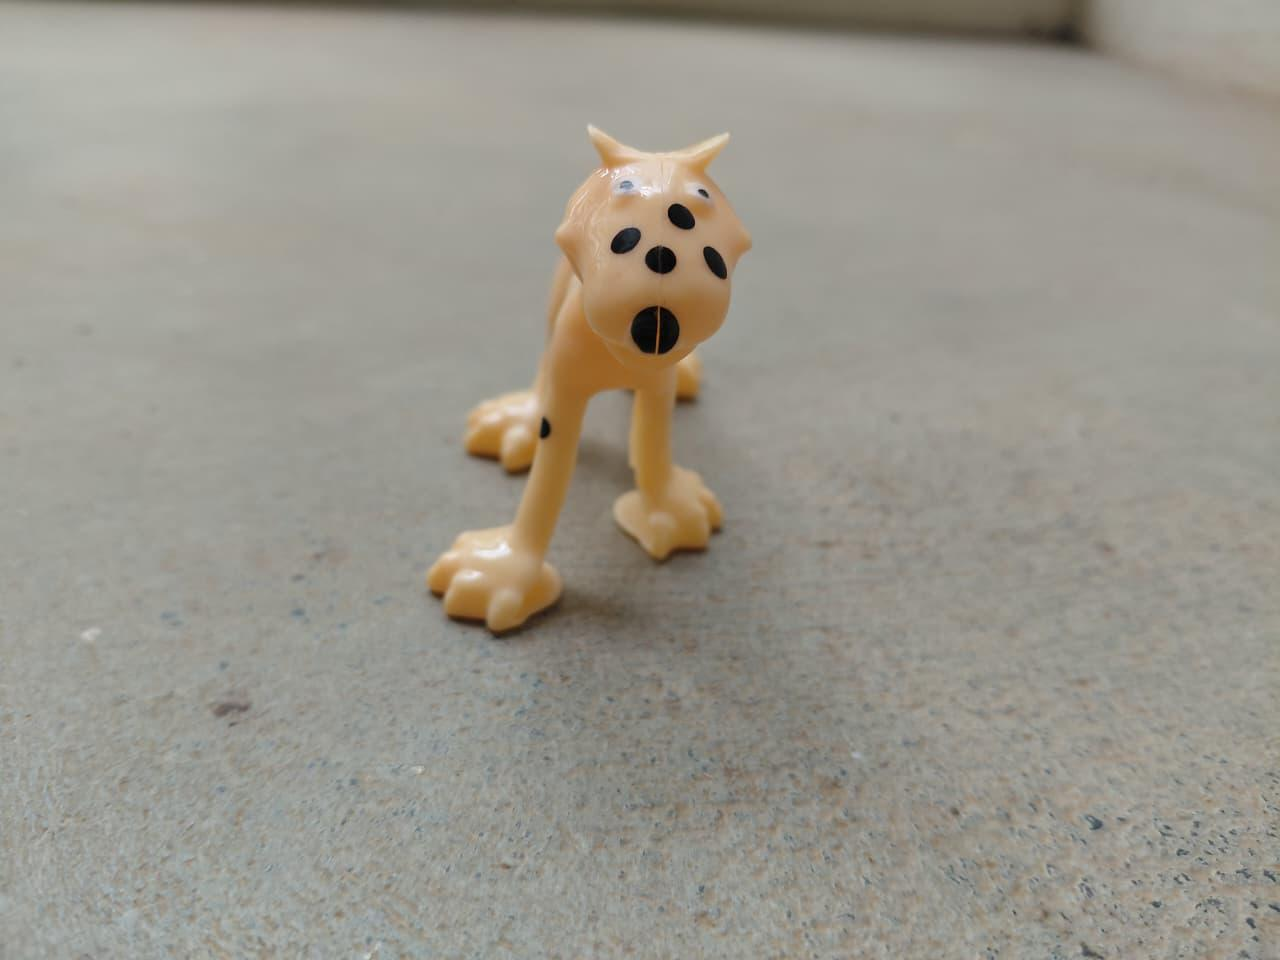cheetah: (416, 122, 768, 640)
